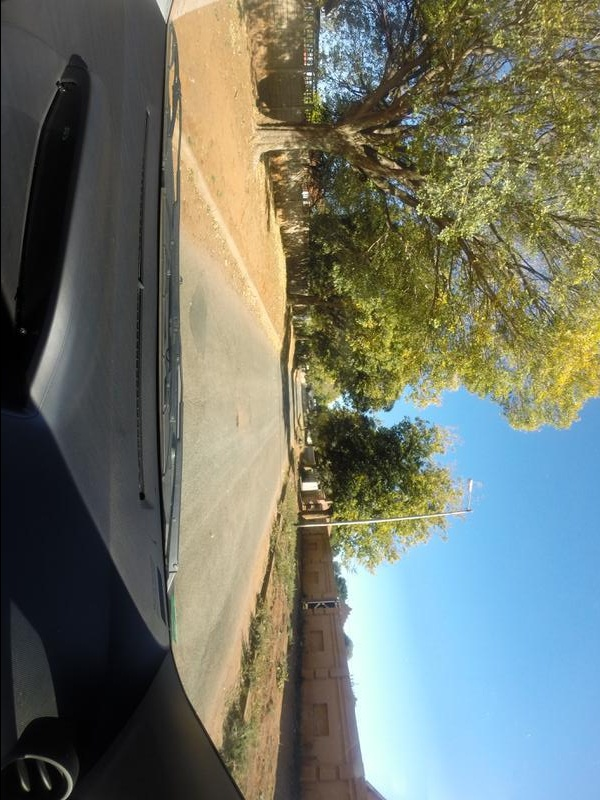pothole: (231, 385, 263, 451)
